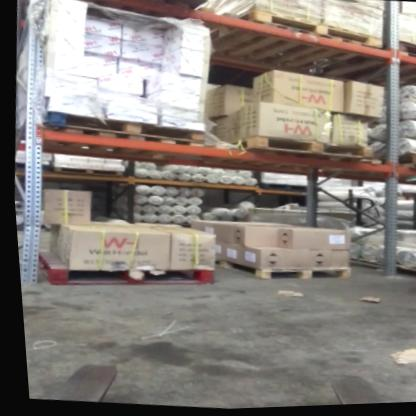vertical_damage: (15, 209, 46, 245)
